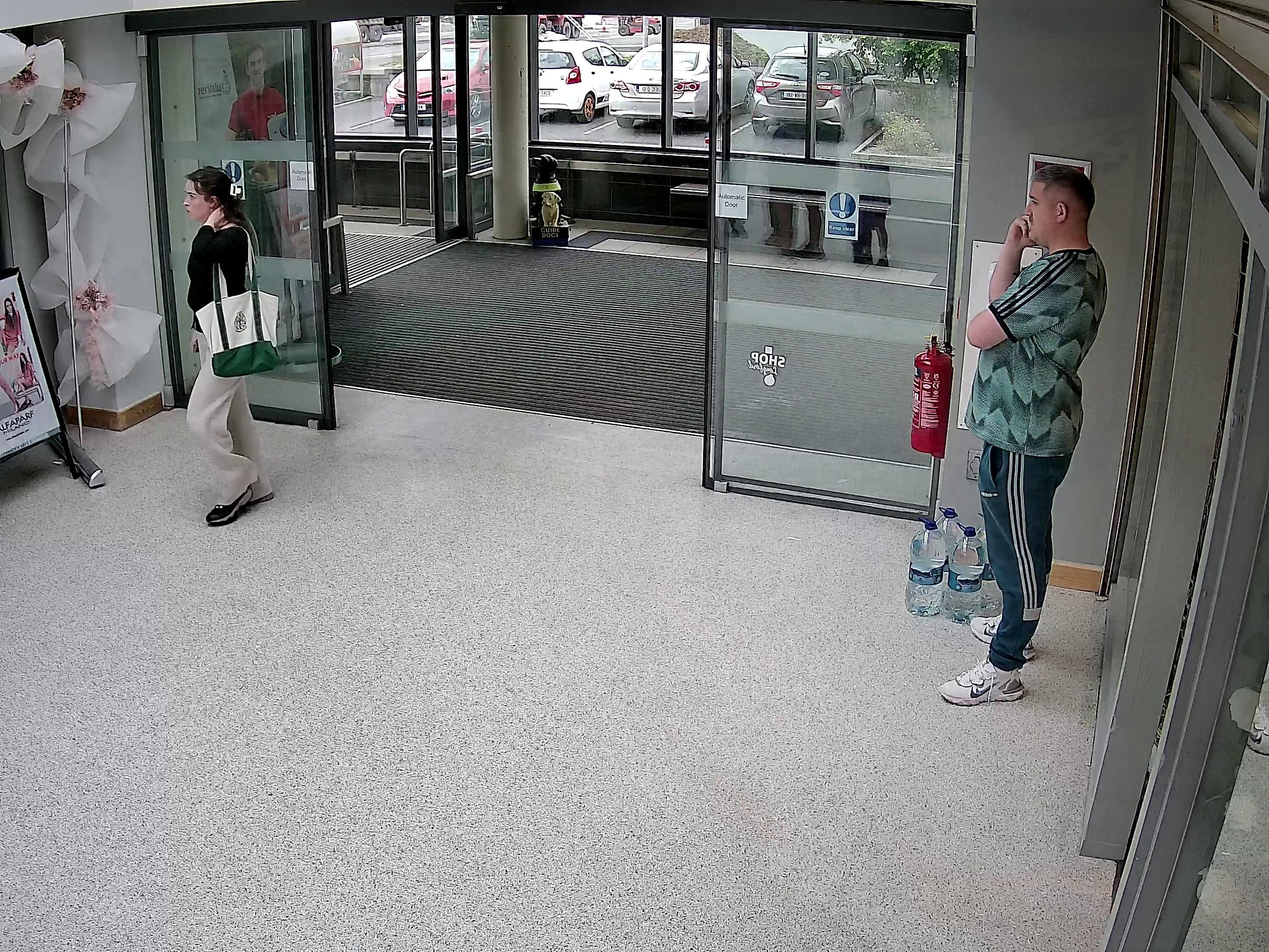backpack-or-handbag: (195, 286, 280, 378)
person: (182, 166, 274, 525)
person-with-backpack-handbag: (182, 166, 281, 525)
